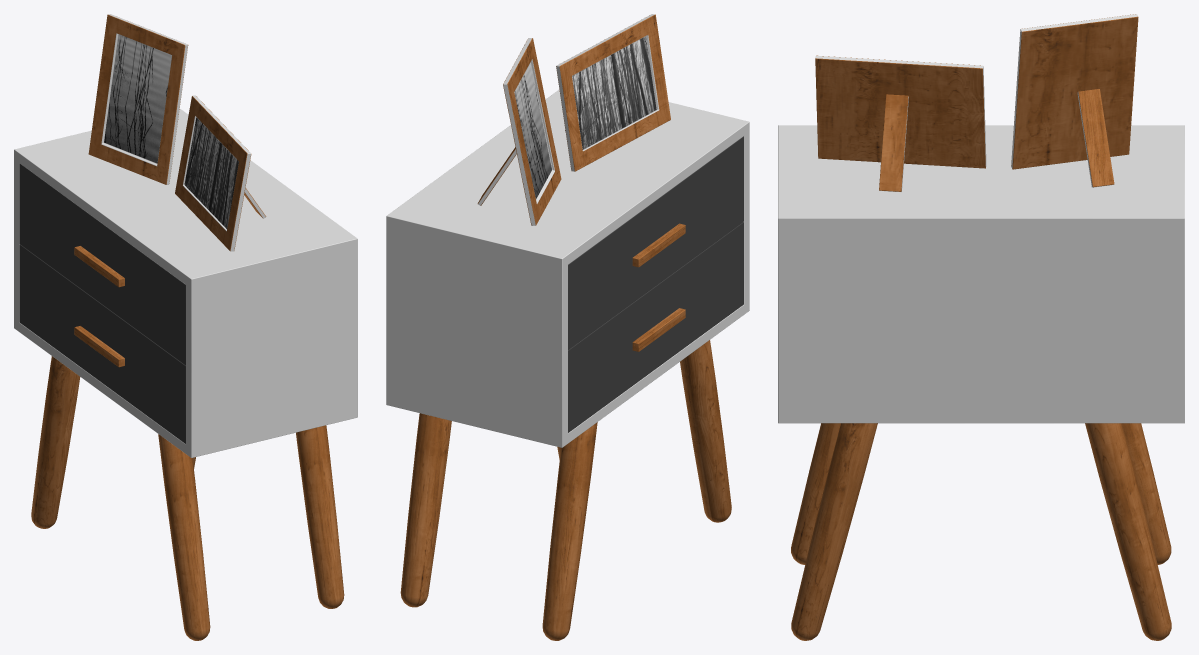
3 views of the same model, side by side, from view 1: azimuth 30°, elevation 25°; view 2: azimuth 150°, elevation 25°; view 3: azimuth 270°, elevation 25° (orthographic). The views are drawn at different scales.
Parts seen in each view (by area): view 1: BB_022_008, BB_022_009, BB_022_010, BB_022_011, BB_022_012, BB_022_007, BB_022_004, BB_022_006, BB_022_002, BB_022_003; view 2: BB_022_008, BB_022_009, BB_022_010, BB_022_012, BB_022_006, BB_022_011, BB_022_005, BB_022_007, BB_022_003, BB_022_002; view 3: BB_022_008, BB_022_012, BB_022_011, BB_022_005, BB_022_004, BB_022_007, BB_022_006.
Part boxes in pixels (x1,y1,x2,y2): BB_022_008: [14, 109, 357, 457]; BB_022_009: [19, 163, 185, 365]; BB_022_010: [19, 244, 185, 443]; BB_022_011: [88, 14, 188, 184]; BB_022_012: [175, 95, 266, 251]; BB_022_007: [158, 434, 210, 640]; BB_022_004: [296, 425, 344, 608]; BB_022_006: [31, 356, 80, 528]; BB_022_002: [74, 326, 124, 367]; BB_022_003: [74, 246, 124, 287]; BB_022_008: [386, 89, 749, 447]; BB_022_009: [568, 136, 743, 349]; BB_022_010: [568, 222, 743, 432]; BB_022_012: [556, 14, 670, 171]; BB_022_006: [542, 422, 597, 640]; BB_022_011: [477, 38, 561, 225]; BB_022_005: [400, 413, 451, 607]; BB_022_007: [680, 340, 731, 522]; BB_022_003: [632, 223, 685, 267]; BB_022_002: [632, 308, 685, 351]; BB_022_008: [778, 125, 1184, 423]; BB_022_012: [815, 55, 986, 191]; BB_022_011: [1011, 14, 1138, 187]; BB_022_005: [1085, 423, 1171, 640]; BB_022_004: [791, 423, 877, 640]; BB_022_007: [791, 423, 840, 564]; BB_022_006: [1122, 423, 1171, 564].
Size of the model in its own units: 0.2915 by 0.8175 by 0.5188.
5 materials, 3 textured.
